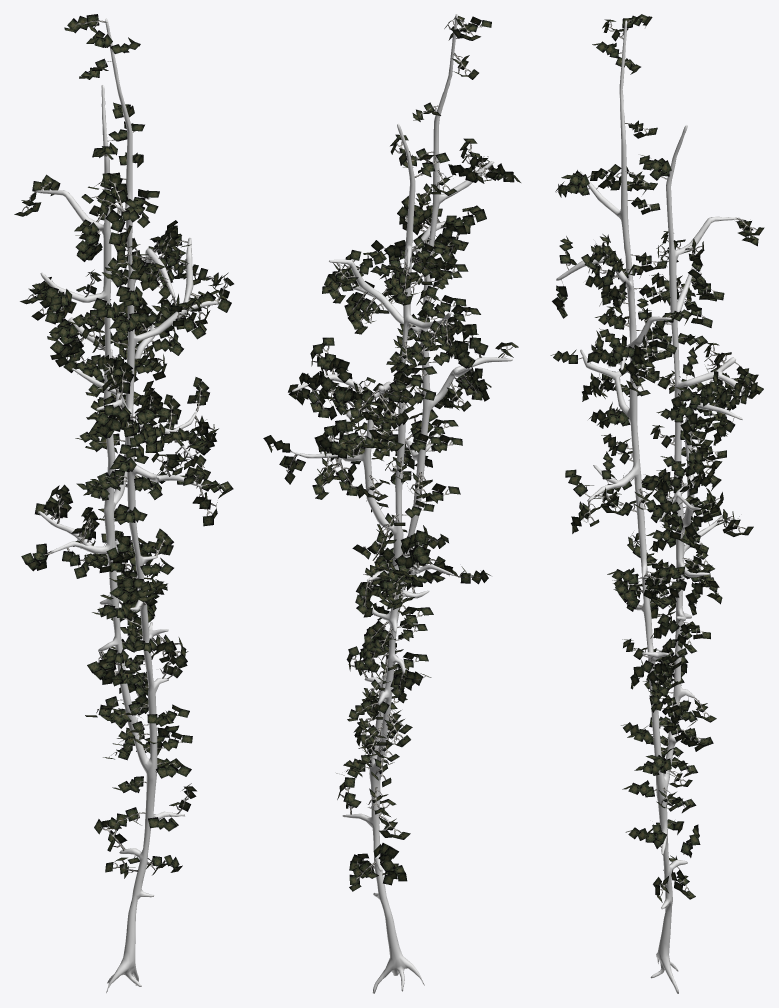
Rendered from BirchTree1.fbx.
3 renders of one model, left to right at view 1: azimuth 30°, elevation 25°; view 2: azimuth 150°, elevation 25°; view 3: azimuth 270°, elevation 25°, orthographic. The views are drawn at different scales.
Visible parts, largest first — view 1: Birch_1_Leaves, Birch_1; view 2: Birch_1_Leaves, Birch_1; view 3: Birch_1_Leaves, Birch_1.
Boxes of the visible parts, x1,y1,x2,y2 form: Birch_1_Leaves: [14, 14, 233, 878]; Birch_1: [35, 18, 229, 993]; Birch_1_Leaves: [263, 16, 520, 891]; Birch_1: [290, 14, 512, 993]; Birch_1_Leaves: [550, 14, 764, 902]; Birch_1: [556, 20, 750, 993].
Size of the model in its own units: 169 by 774 by 159.
